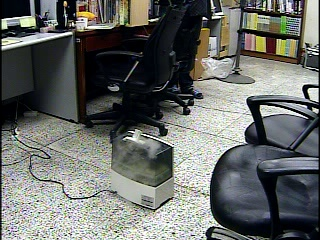smoke: (112, 133, 159, 175)
